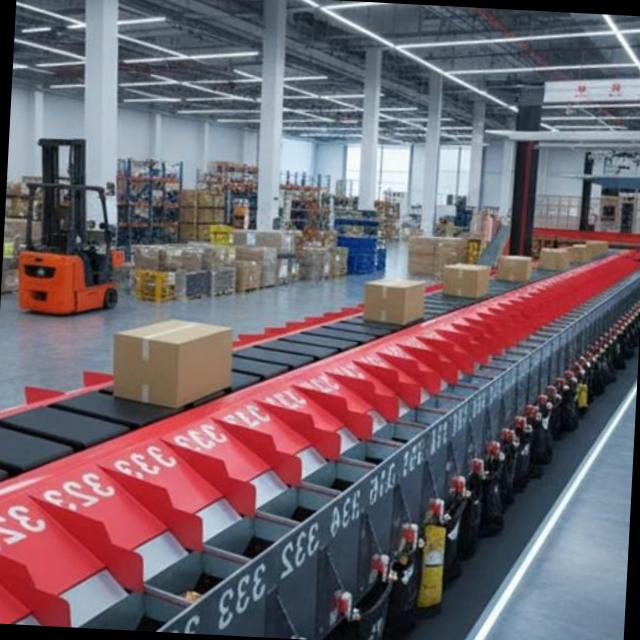box: (114, 320, 233, 408), (364, 279, 424, 324), (445, 265, 489, 297), (497, 255, 532, 281), (539, 249, 570, 271), (562, 246, 592, 263), (584, 240, 608, 256)
